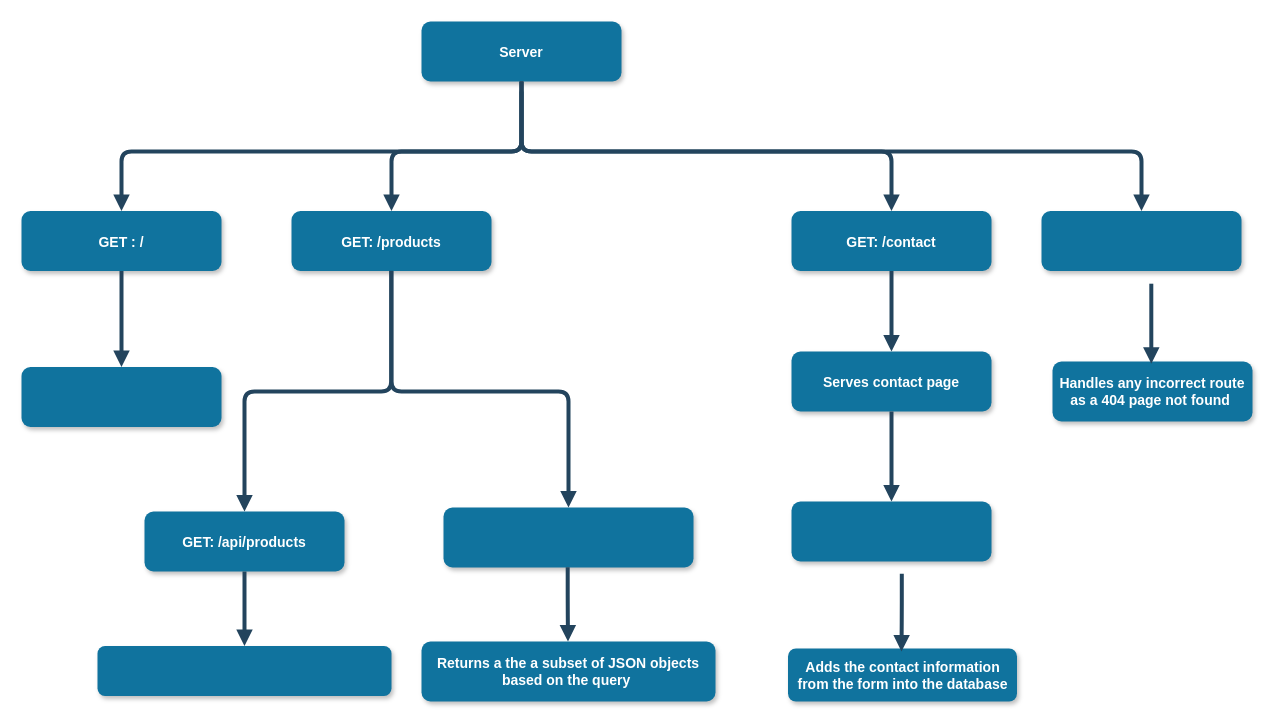
Some shapes in this 1275 by 725 pixel diagram are drawn without their labels. The centre of each missing label's shape, as x and y in pixels:
"GET: * error" belongs at [1142,242].
"GET: /api/ productfilter/:query" belongs at [569,538].
"POST: /api/newcontact" belongs at [892,532].
"Returns a JSON object with all products" belongs at [245,672].
"Serves Home Page" belongs at [122,398].
